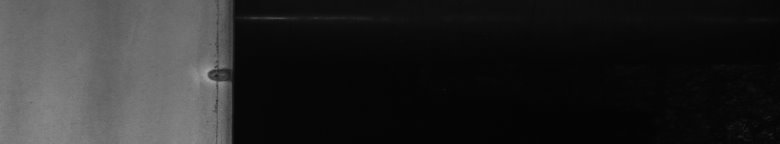hb: (196, 4, 220, 136)
